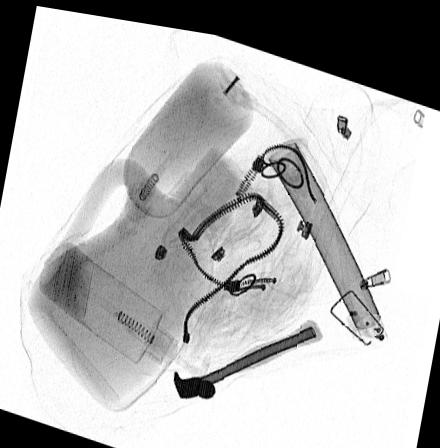Hammer: (172, 308, 322, 392)
